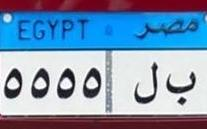5: (0, 69, 24, 102), (81, 63, 103, 98), (27, 67, 53, 96), (55, 68, 75, 100)
baa: (166, 65, 197, 107)
laam: (131, 63, 160, 104)
